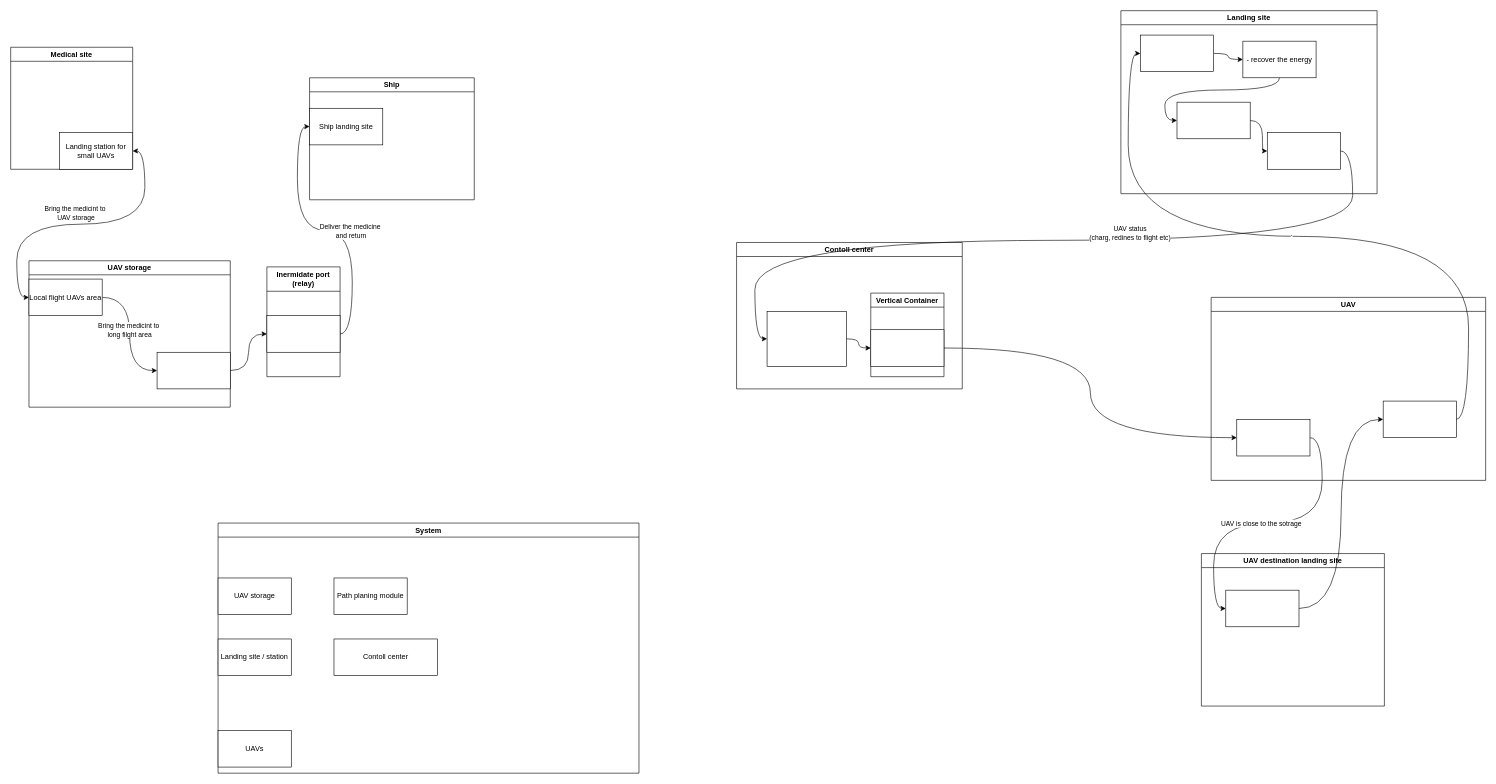
Some shapes in this 1496 by 784 pixel diagram are drawn without their labels. The shapes that lost their labels are listed below. From the top down, each one's centre as x and y in pixels, then its label:
At point 1177,53: "- Chck and fix the UAV".
At point 1213,120: "- Report that UAV is ready to fly".
At point 1303,150: "- Request destination for return".
At point 303,333: "Landing site".
At point 806,338: "Analise current flight trafic. Gives the best port to retrun".
At point 907,347: "Plan the tragectory".
At point 193,370: "Long flight UAV area".
At point 1273,437: "Executre tragectory".
At point 1419,419: "land".
At point 1262,608: "tell more detaild insturction where to land".
